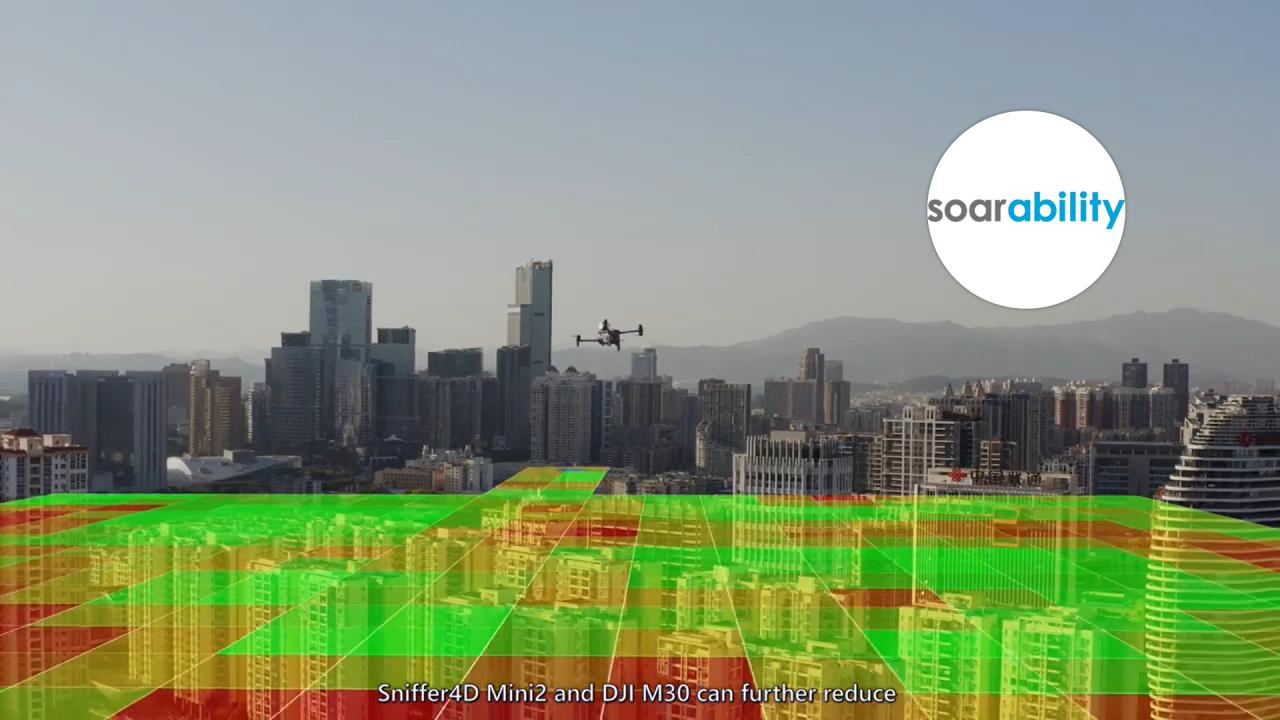Drone: (565, 312, 651, 360)
